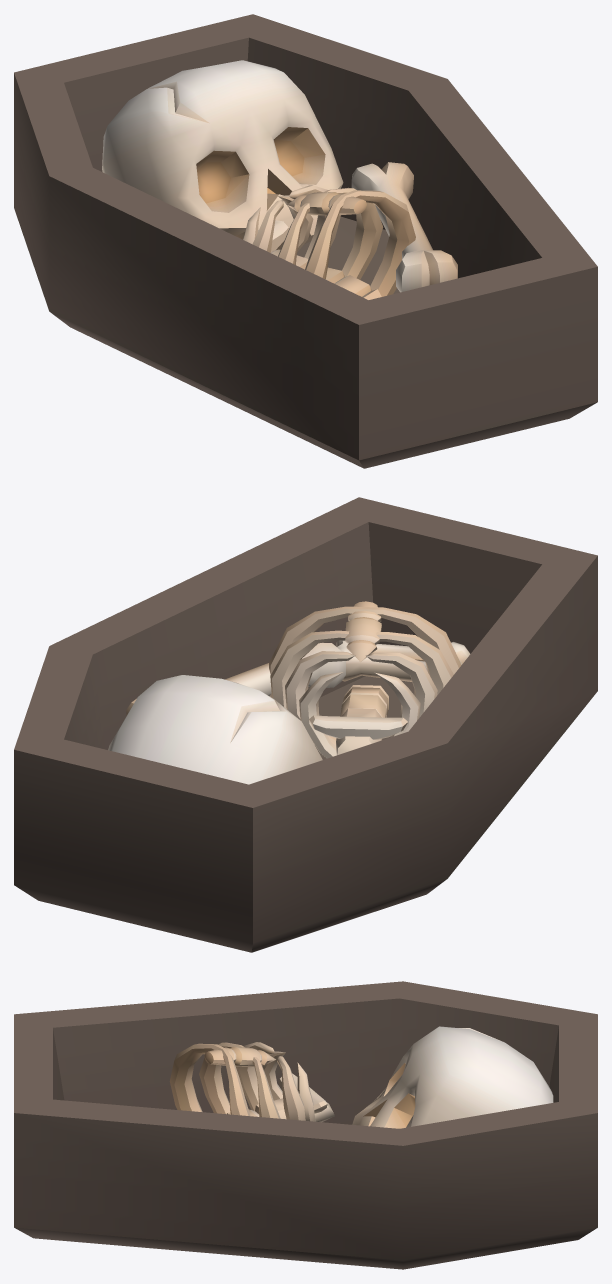
File: kaykit-halloween-bits-coffin-decorated.glb
3 renders of one model, top to bottom at view 1: azimuth 30°, elevation 25°; view 2: azimuth 150°, elevation 25°; view 3: azimuth 270°, elevation 25°, orthographic. The views are drawn at different scales.
Parts seen in each view (by area): view 1: coffin_decorated; view 2: coffin_decorated; view 3: coffin_decorated.
Boxes of the visible parts, bbox=[...] form: coffin_decorated: bbox=[14, 14, 597, 468]; coffin_decorated: bbox=[14, 497, 597, 952]; coffin_decorated: bbox=[14, 981, 597, 1269].
Size of the model in its own units: 2 by 0.9025 by 3.
Materials: 1 (1 with a texture image).
